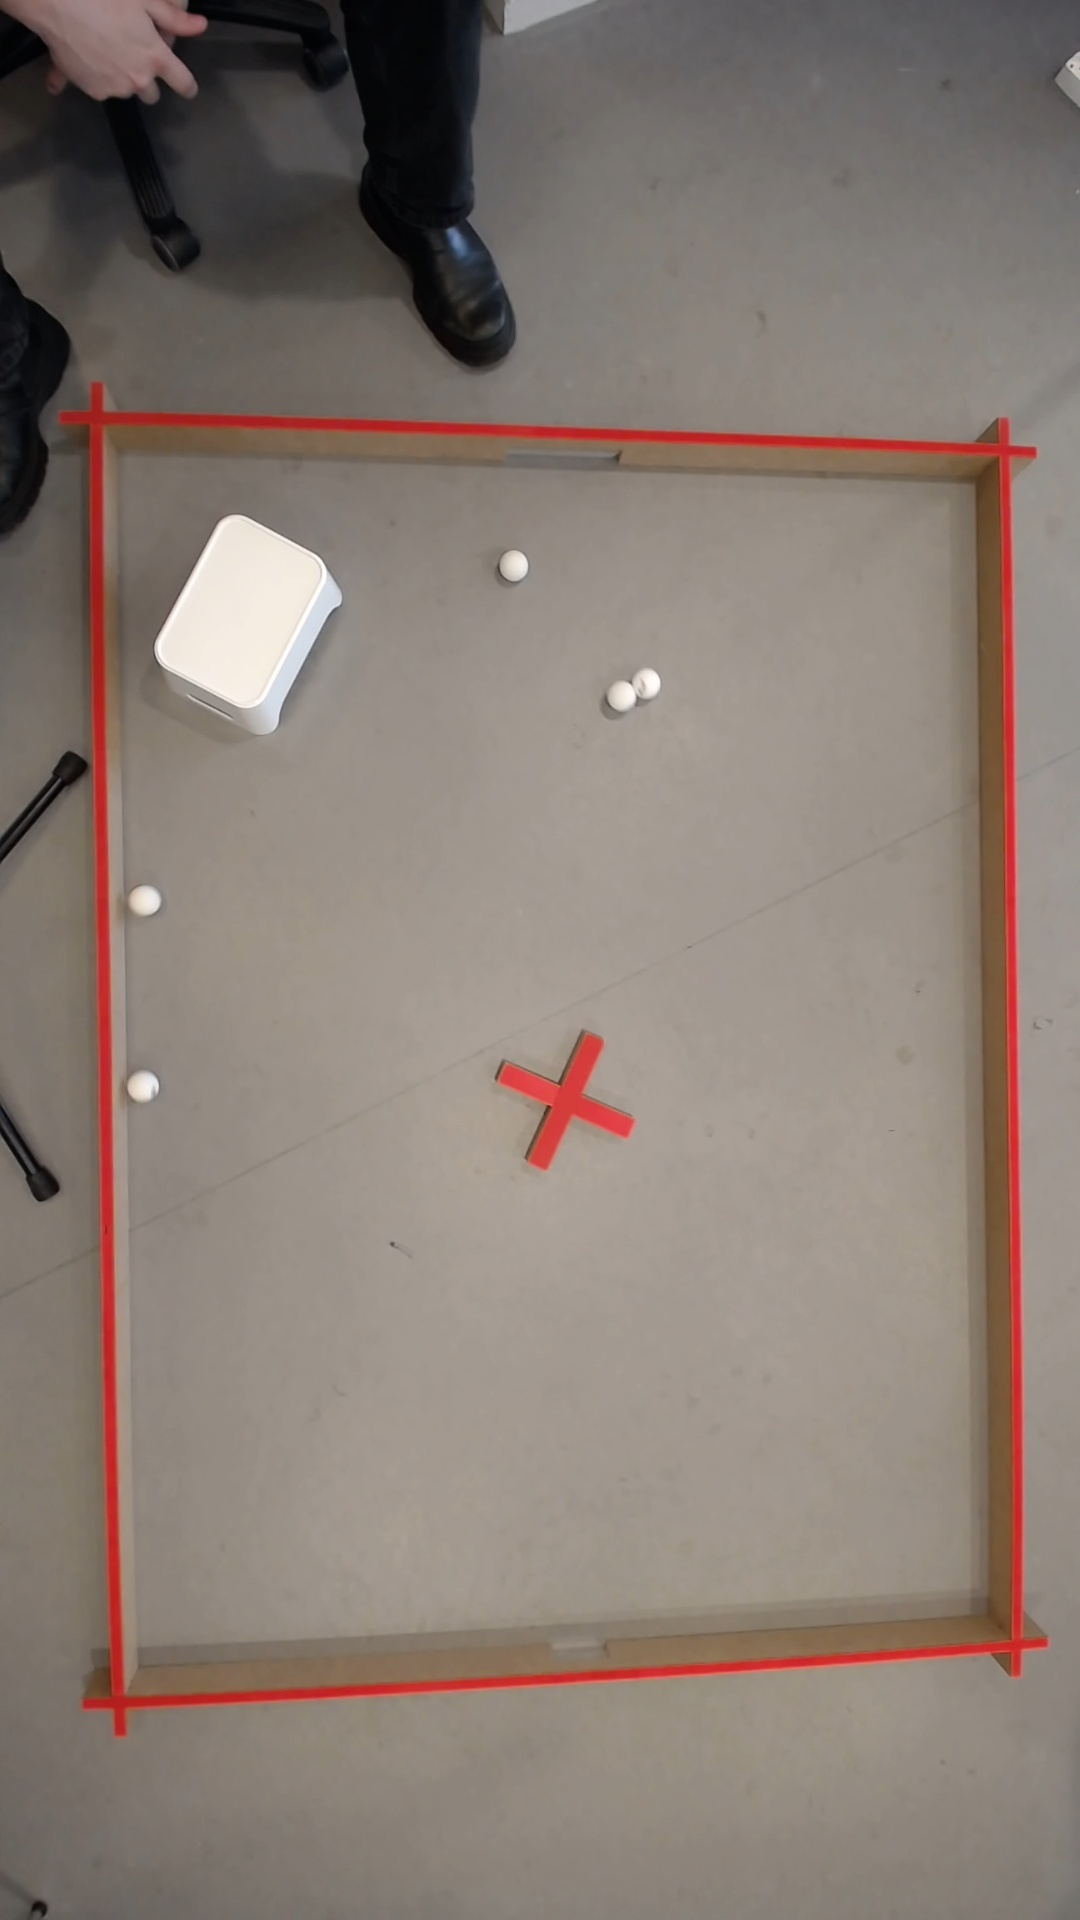balls: (144, 505, 356, 729), (124, 880, 165, 919), (123, 1065, 162, 1105)
car: (497, 546, 534, 583)
